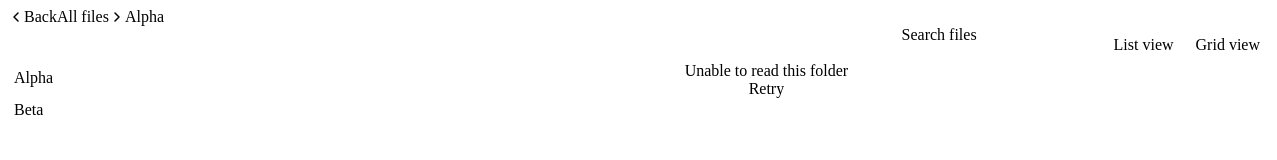
Test: FileExplorer approved D05 › case-p2-d05-ac03-unit folder error is distinct from empty and retries safely
Expected: the message shows "Unable to read this folder", [685,62,848,79]
Expected: the text "This folder is empty" is not shown
What coordinates should you click on to do the following:
click the button "Retry"
I would click on:
 (766, 89)
Its box is [749,80,784,98].
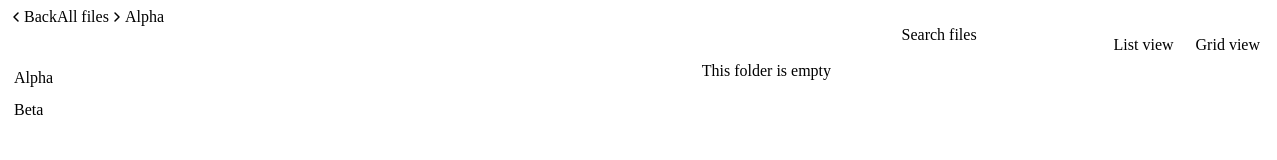
Expected: the text "This folder is empty" is shown, [702,62,831,80]
